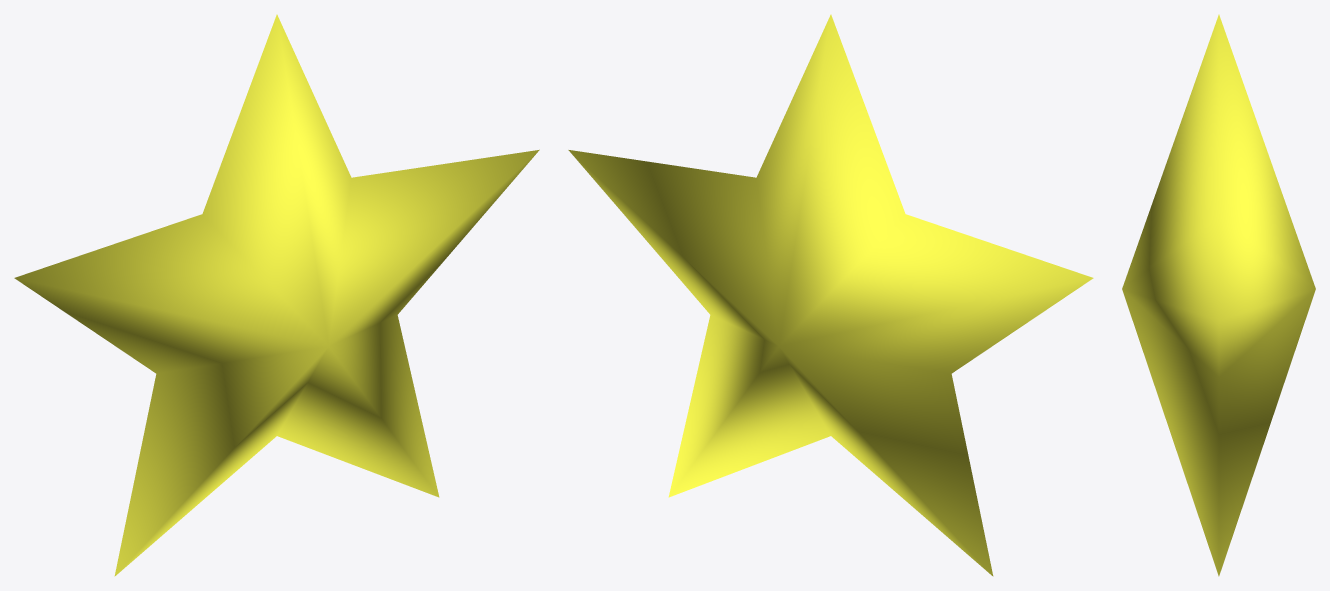
File: star_rename_texture.fbx
3 views of the same model, side by side, from view 1: azimuth 30°, elevation 25°; view 2: azimuth 150°, elevation 25°; view 3: azimuth 270°, elevation 25° (orthographic). The views are drawn at different scales.
Parts seen in each view (by area): view 1: group1; view 2: group1; view 3: group1.
Part boxes in pixels (box(x1,y1,x2,y2)): group1: box(14, 14, 539, 576); group1: box(568, 14, 1093, 576); group1: box(1122, 14, 1315, 576).
Bounding box in the file's own units: 3.66 × 3.48 × 1.25.
